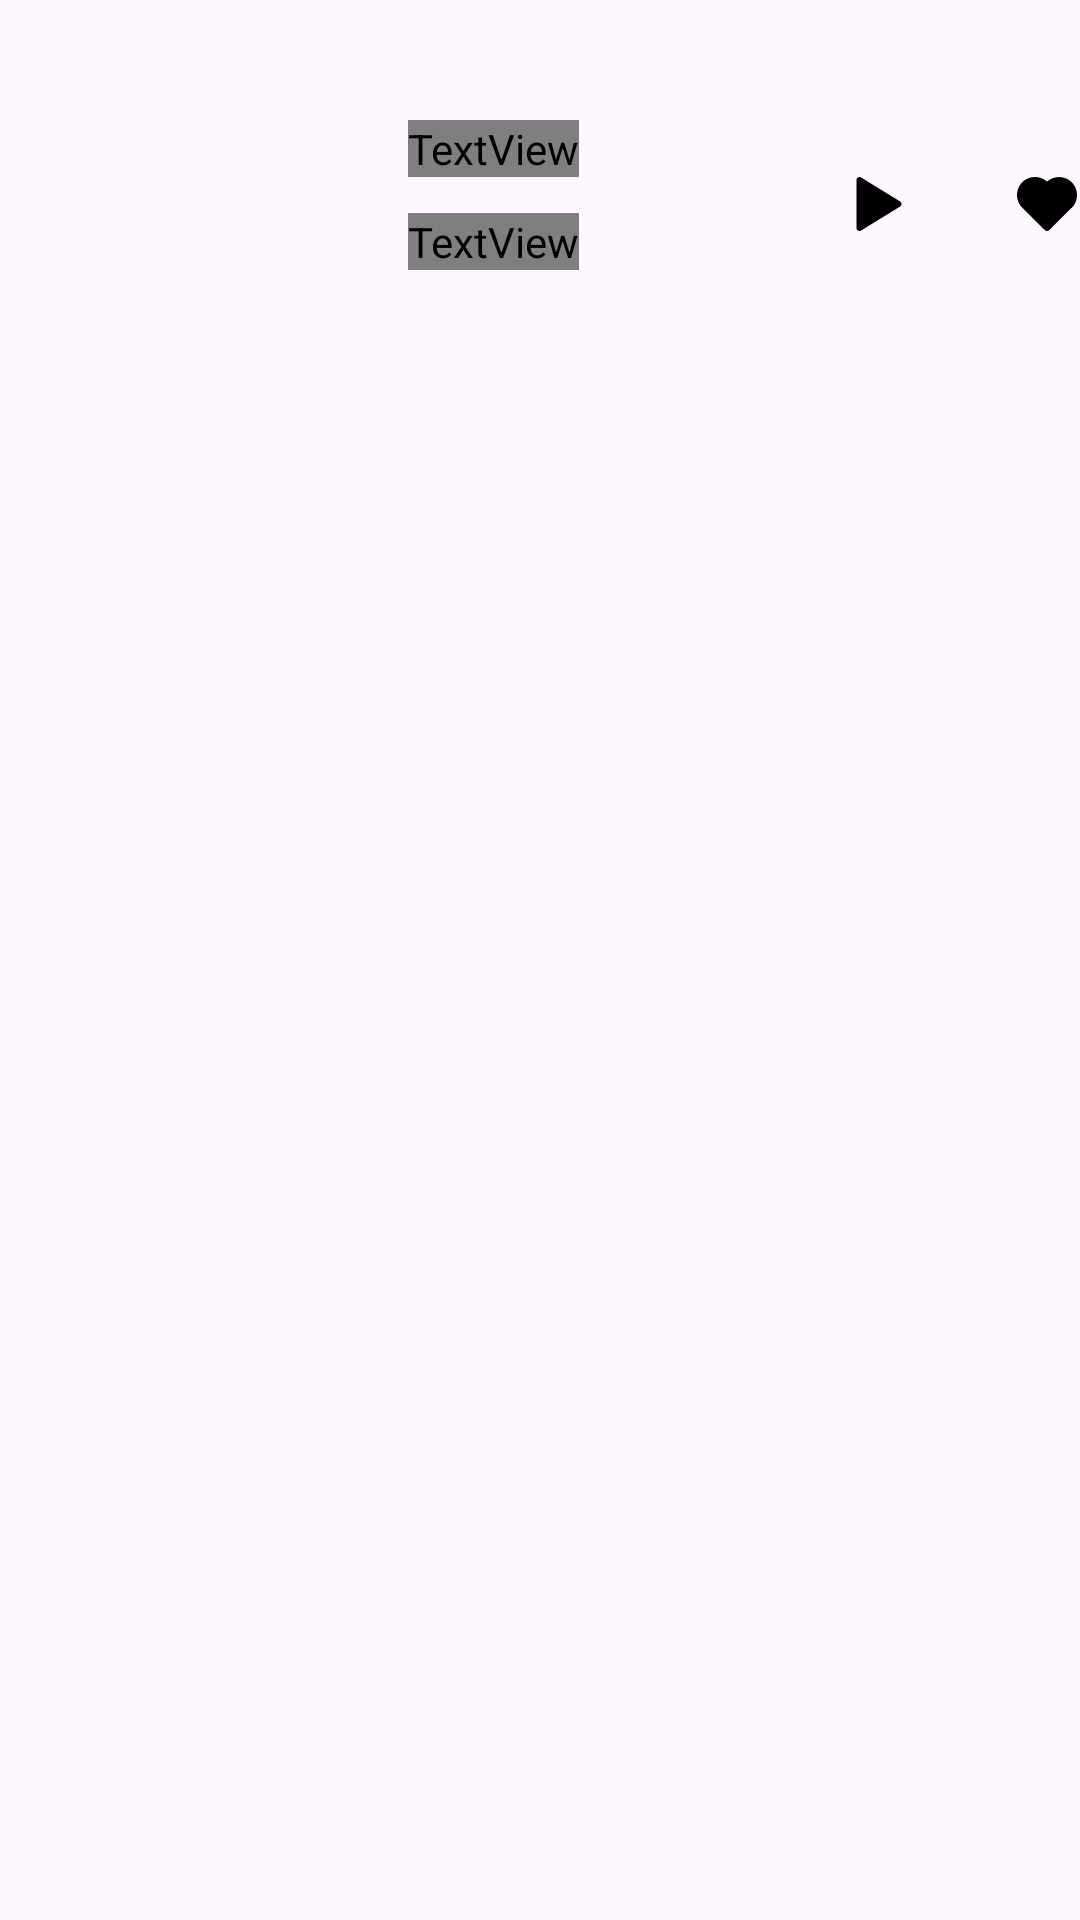

Named icons in this screenshot (1080 x 1920) and their bounding boxes, BBox(x1, y1, x2, y2):
play: BBox(856, 177, 902, 231)
